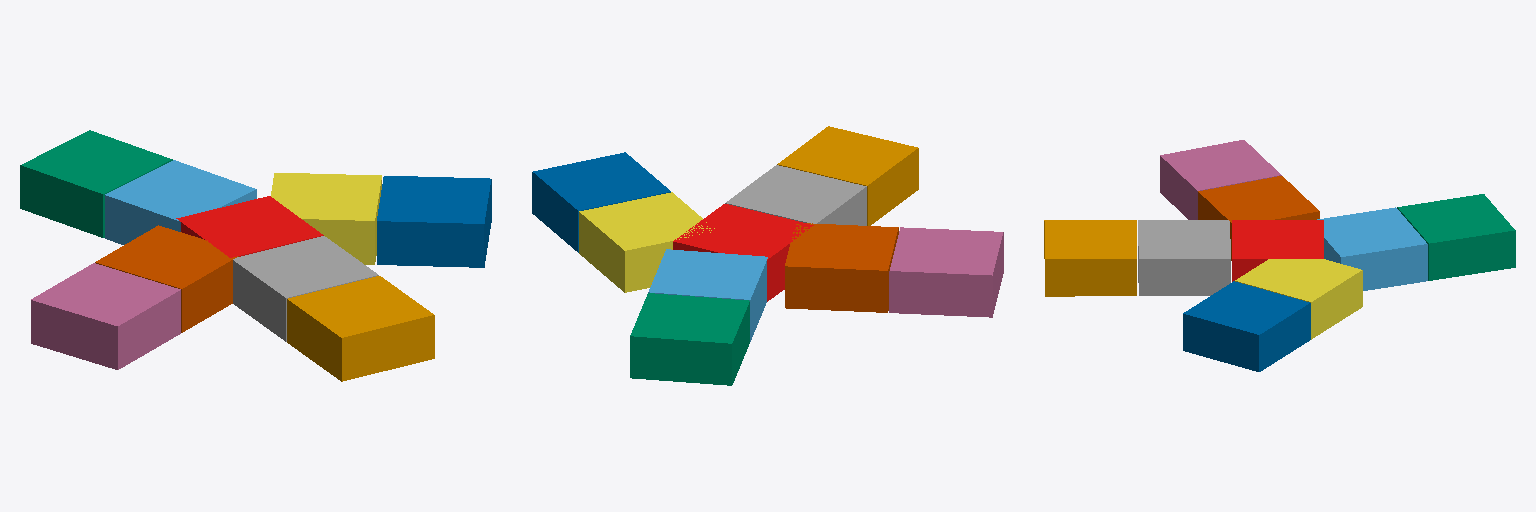
The robot description file, URDF, robot "Model_Models/Model_186.urdf7":
<?xml version='1.0' encoding='UTF-8'?>
<robot name="Model_Models/Model_186.urdf7">
  <link name="base_link">
    <inertial>
      <origin xyz="0.0 0.0 0.0" rpy="0.0 -0.0 0.0"/>
      <mass value="1.0"/>
      <inertia ixx="1.0" ixy="0.0" ixz="0.0" iyy="1.0" iyz="0.0" izz="1.0"/>
    </inertial>
    <visual>
      <geometry>
        <box size="0.67 0.67 0.3 "/>
      </geometry>
      <material name="red"/>
      <origin xyz="0.0 0.0 0.0" rpy="0.0 -0.0 0.0"/>
    </visual>
    <collision>
      <geometry>
        <box size="0.67 0.67 0.3 "/>
      </geometry>
      <origin xyz="0.0 0.0 0.0" rpy="0.0 0.0 0.0"/>
    </collision>
  </link>
  <link name="arm_0_arm1">
    <inertial>
      <origin xyz="0.0 0.34 0.0" rpy="0.0 0.0 0.0"/>
      <mass value="1.0"/>
      <inertia ixx="0.0" ixy="0.0" ixz="0.0" iyy="0.0" iyz="0.0" izz="0.0"/>
    </inertial>
    <visual>
      <geometry>
        <box size="0.67 0.67 0.3 "/>
      </geometry>
      <origin xyz="0.0 0.34 0.0" rpy="0.0 0.0 0.0"/>
    </visual>
    <collision>
      <geometry>
        <box size="0.67 0.67 0.3 "/>
      </geometry>
      <origin xyz="0.0 0.34 0.0" rpy="0.0 0.0 0.0"/>
    </collision>
  </link>
  <link name="arm_0_arm2">
    <inertial>
      <origin xyz="0.0 0.34 0.0" rpy="0.0 0.0 0.0"/>
      <mass value="1.0"/>
      <inertia ixx="0.0" ixy="0.0" ixz="0.0" iyy="0.0" iyz="0.0" izz="0.0"/>
    </inertial>
    <visual>
      <geometry>
        <box size="0.67 0.67 0.3 "/>
      </geometry>
      <origin xyz="0.0 0.34 0.0" rpy="0.0 0.0 0.0"/>
    </visual>
    <collision>
      <geometry>
        <box size="0.67 0.67 0.3 "/>
      </geometry>
      <origin xyz="0.0 0.34 0.0" rpy="0.0 0.0 0.0"/>
    </collision>
  </link>
  <link name="arm_2_arm1">
    <inertial>
      <origin xyz="0.0 0.34 0.0" rpy="0.0 0.0 0.0"/>
      <mass value="1.0"/>
      <inertia ixx="0.0" ixy="0.0" ixz="0.0" iyy="0.0" iyz="0.0" izz="0.0"/>
    </inertial>
    <visual>
      <geometry>
        <box size="0.67 0.67 0.3 "/>
      </geometry>
      <origin xyz="0.0 0.34 0.0" rpy="0.0 0.0 0.0"/>
    </visual>
    <collision>
      <geometry>
        <box size="0.67 0.67 0.3 "/>
      </geometry>
      <origin xyz="0.0 0.34 0.0" rpy="0.0 0.0 0.0"/>
    </collision>
  </link>
  <link name="arm_2_arm2">
    <inertial>
      <origin xyz="0.0 0.34 0.0" rpy="0.0 0.0 0.0"/>
      <mass value="1.0"/>
      <inertia ixx="0.0" ixy="0.0" ixz="0.0" iyy="0.0" iyz="0.0" izz="0.0"/>
    </inertial>
    <visual>
      <geometry>
        <box size="0.67 0.67 0.3 "/>
      </geometry>
      <origin xyz="0.0 0.34 0.0" rpy="0.0 0.0 0.0"/>
    </visual>
    <collision>
      <geometry>
        <box size="0.67 0.67 0.3 "/>
      </geometry>
      <origin xyz="0.0 0.34 0.0" rpy="0.0 0.0 0.0"/>
    </collision>
  </link>
  <link name="arm_3_arm1">
    <inertial>
      <origin xyz="0.0 0.34 0.0" rpy="0.0 0.0 0.0"/>
      <mass value="1.0"/>
      <inertia ixx="0.0" ixy="0.0" ixz="0.0" iyy="0.0" iyz="0.0" izz="0.0"/>
    </inertial>
    <visual>
      <geometry>
        <box size="0.67 0.67 0.3 "/>
      </geometry>
      <origin xyz="0.0 0.34 0.0" rpy="0.0 0.0 0.0"/>
    </visual>
    <collision>
      <geometry>
        <box size="0.67 0.67 0.3 "/>
      </geometry>
      <origin xyz="0.0 0.34 0.0" rpy="0.0 0.0 0.0"/>
    </collision>
  </link>
  <link name="arm_3_arm2">
    <inertial>
      <origin xyz="0.0 0.34 0.0" rpy="0.0 0.0 0.0"/>
      <mass value="1.0"/>
      <inertia ixx="0.0" ixy="0.0" ixz="0.0" iyy="0.0" iyz="0.0" izz="0.0"/>
    </inertial>
    <visual>
      <geometry>
        <box size="0.67 0.67 0.3 "/>
      </geometry>
      <origin xyz="0.0 0.34 0.0" rpy="0.0 0.0 0.0"/>
    </visual>
    <collision>
      <geometry>
        <box size="0.67 0.67 0.3 "/>
      </geometry>
      <origin xyz="0.0 0.34 0.0" rpy="0.0 0.0 0.0"/>
    </collision>
  </link>
  <link name="arm_Permutation_7_arm1">
    <inertial>
      <origin xyz="0.0 0.34 0.0" rpy="0.0 0.0 0.0"/>
      <mass value="1.0"/>
      <inertia ixx="0.0" ixy="0.0" ixz="0.0" iyy="0.0" iyz="0.0" izz="0.0"/>
    </inertial>
    <visual>
      <geometry>
        <box size="0.67 0.67 0.3 "/>
      </geometry>
      <origin xyz="0.0 0.34 0.0" rpy="0.0 0.0 0.0"/>
    </visual>
    <collision>
      <geometry>
        <box size="0.67 0.67 0.3 "/>
      </geometry>
      <origin xyz="0.0 0.34 0.0" rpy="0.0 0.0 0.0"/>
    </collision>
  </link>
  <link name="arm_Permutation_7_arm2">
    <inertial>
      <origin xyz="0.0 0.34 0.0" rpy="0.0 0.0 0.0"/>
      <mass value="1.0"/>
      <inertia ixx="0.0" ixy="0.0" ixz="0.0" iyy="0.0" iyz="0.0" izz="0.0"/>
    </inertial>
    <visual>
      <geometry>
        <box size="0.67 0.67 0.3 "/>
      </geometry>
      <origin xyz="0.0 0.34 0.0" rpy="0.0 0.0 0.0"/>
    </visual>
    <collision>
      <geometry>
        <box size="0.67 0.67 0.3 "/>
      </geometry>
      <origin xyz="0.0 0.34 0.0" rpy="0.0 0.0 0.0"/>
    </collision>
  </link>
  <joint name="arm_0_jointBase" type="fixed">
    <limit effort="1.57" velocity="1.57" lower="-1.57" upper="1.57"/>
    <parent link="base_link"/>
    <child link="arm_0_arm1"/>
    <axis xyz="1. 0. 0."/>
    <origin xyz="0.0 0.34 0.0" rpy="0.0 0.0 0.35"/>
  </joint>
  <joint name="arm_0_joint1" type="revolute">
    <limit effort="1.57" velocity="1.57" lower="-1.57" upper="1.57"/>
    <parent link="arm_0_arm1"/>
    <child link="arm_0_arm2"/>
    <axis xyz="1. 0. 0."/>
    <origin xyz="0.0 0.68 0.0" rpy="0.0 0.0 0.0"/>
  </joint>
  <joint name="arm_2_jointBase" type="fixed">
    <limit effort="1.57" velocity="1.57" lower="-1.57" upper="1.57"/>
    <parent link="base_link"/>
    <child link="arm_2_arm1"/>
    <axis xyz="1. 0. 0."/>
    <origin xyz="0.34 0.34 0.0" rpy="0.0 0.0 -2.16"/>
  </joint>
  <joint name="arm_2_joint1" type="revolute">
    <limit effort="1.57" velocity="1.57" lower="-1.57" upper="1.57"/>
    <parent link="arm_2_arm1"/>
    <child link="arm_2_arm2"/>
    <axis xyz="1. 0. 0."/>
    <origin xyz="0.0 0.68 0.0" rpy="0.0 0.0 0.0"/>
  </joint>
  <joint name="arm_3_jointBase" type="fixed">
    <limit effort="1.57" velocity="1.57" lower="-1.57" upper="1.57"/>
    <parent link="base_link"/>
    <child link="arm_3_arm1"/>
    <axis xyz="1. 0. 0."/>
    <origin xyz="-0.34 0.0 0.0" rpy="0.0 0.0 1.99"/>
  </joint>
  <joint name="arm_3_joint1" type="revolute">
    <limit effort="1.57" velocity="1.57" lower="-1.57" upper="1.57"/>
    <parent link="arm_3_arm1"/>
    <child link="arm_3_arm2"/>
    <axis xyz="1. 0. 0."/>
    <origin xyz="0.0 0.68 0.0" rpy="0.0 0.0 0.0"/>
  </joint>
  <joint name="arm_Permutation_7_jointBase" type="fixed">
    <limit effort="1.57" velocity="1.57" lower="-1.57" upper="1.57"/>
    <parent link="base_link"/>
    <child link="arm_Permutation_7_arm1"/>
    <axis xyz="1. 0. 0."/>
    <origin xyz="0.0 -0.34 0.0" rpy="0.0 0.0 -3.1331853071795868"/>
  </joint>
  <joint name="arm_Permutation_7_joint1" type="revolute">
    <limit effort="1.57" velocity="1.57" lower="-1.57" upper="1.57"/>
    <parent link="arm_Permutation_7_arm1"/>
    <child link="arm_Permutation_7_arm2"/>
    <axis xyz="1. 0. 0."/>
    <origin xyz="0.0 0.68 0.0" rpy="0.0 0.0 0.0"/>
  </joint>
  <material name="red">
    <color rgba="0.969 0.129 0.122 1.   "/>
  </material>
</robot>

--- Facts derived from the render (not from the file) ---
3 views of the same robot in one strip: view 1: azimuth 30°, elevation 25°; view 2: azimuth 150°, elevation 25°; view 3: azimuth 270°, elevation 25° (orthographic).
Model Model_Models/Model_186.urdf7 with 9 links and 8 joints (4 revolute, 4 fixed), rooted at base_link, posed every joint at zero.
Visible links, largest first — view 1: arm_3_arm2, arm_Permutation_7_arm2, arm_2_arm2, arm_0_arm2, arm_Permutation_7_arm1, arm_3_arm1, arm_0_arm1, arm_2_arm1, base_link; view 2: arm_0_arm2, arm_3_arm2, arm_3_arm1, arm_2_arm1, arm_Permutation_7_arm2, arm_2_arm2, arm_Permutation_7_arm1, arm_0_arm1, base_link; view 3: arm_2_arm2, arm_Permutation_7_arm2, arm_0_arm2, arm_Permutation_7_arm1, arm_0_arm1, arm_2_arm1, arm_3_arm2, arm_3_arm1, base_link.
Boxes of the visible links, x1,y1,x2,y2 form: arm_3_arm2: (31,263,180,369); arm_Permutation_7_arm2: (287,276,434,381); arm_2_arm2: (377,176,491,267); arm_0_arm2: (20,130,172,237); arm_Permutation_7_arm1: (233,236,378,341); arm_3_arm1: (95,225,238,332); arm_0_arm1: (105,160,256,244); arm_2_arm1: (271,173,381,264); base_link: (176,196,323,257); arm_0_arm2: (630,293,749,385); arm_3_arm2: (889,227,1003,317); arm_3_arm1: (785,223,898,312); arm_2_arm1: (579,192,714,292); arm_Permutation_7_arm2: (777,126,918,225); arm_2_arm2: (532,152,670,252); arm_Permutation_7_arm1: (725,165,866,225); arm_0_arm1: (648,249,767,341); base_link: (673,204,813,301); arm_2_arm2: (1183,281,1310,371); arm_Permutation_7_arm2: (1044,220,1136,296); arm_0_arm2: (1397,194,1515,280); arm_Permutation_7_arm1: (1138,220,1230,295); arm_0_arm1: (1317,207,1427,290); arm_2_arm1: (1235,259,1362,339); arm_3_arm2: (1160,140,1281,219); arm_3_arm1: (1198,176,1319,260); base_link: (1232,220,1323,281).
Size in the robot's own frame: 3.37 by 3.43 by 0.3 metres.
Geometry: primitives only (box / cylinder / sphere), no mesh files.